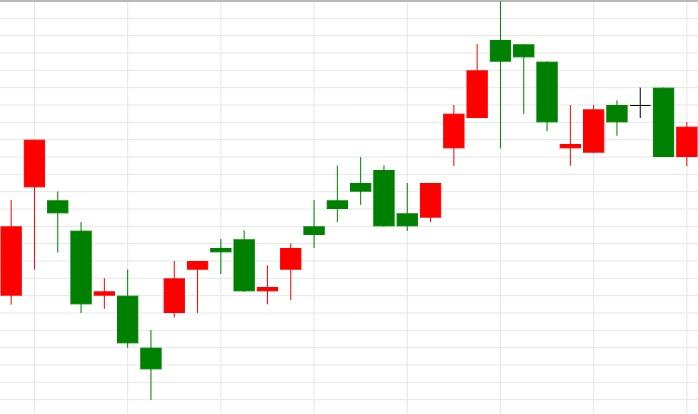morning_star_rise: (490, 1, 604, 166)
